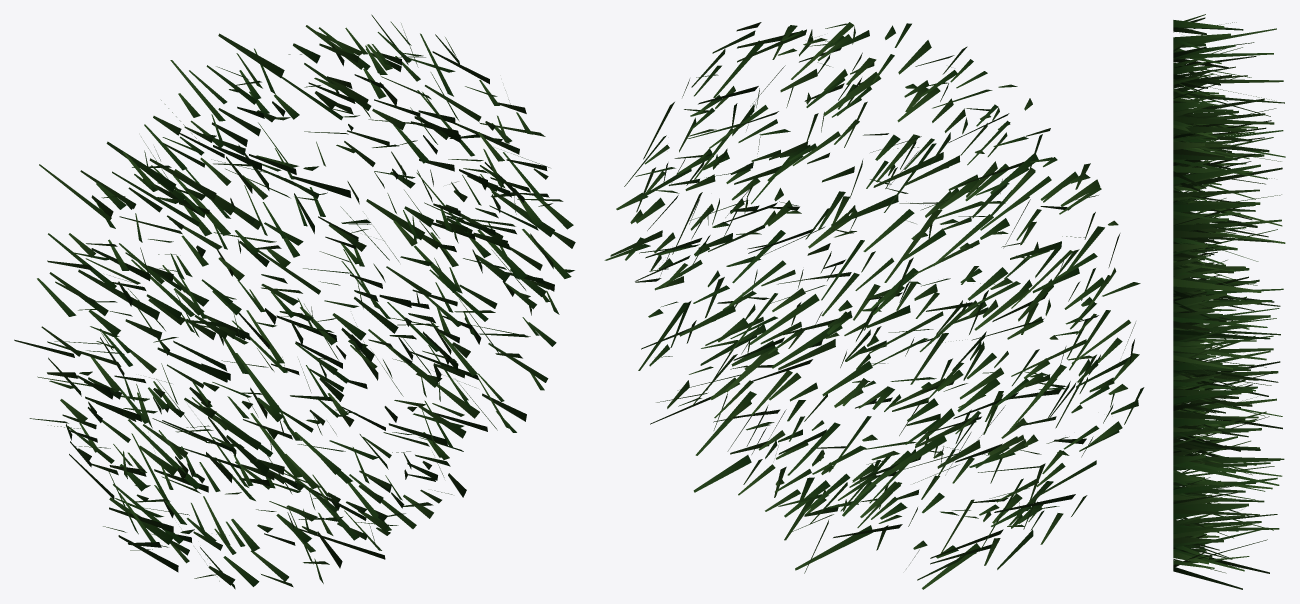
Rendered from Turf_Shade.glb.
The picture shows the model from 3 angles, left to right: view 1: azimuth 30°, elevation 25°; view 2: azimuth 150°, elevation 25°; view 3: azimuth 270°, elevation 25°; orthographic projection. The views are drawn at different scales.
Visible parts, largest first — view 1: Turf_Shade; view 2: Turf_Shade; view 3: Turf_Shade.
Boxes of the visible parts, left/top/right/bottom form: Turf_Shade: left=14, top=14, right=575, bottom=589; Turf_Shade: left=604, top=22, right=1144, bottom=589; Turf_Shade: left=1173, top=14, right=1285, bottom=589.
Bounding box in the file's own units: 0.9199 × 0.9002 × 0.1798.
